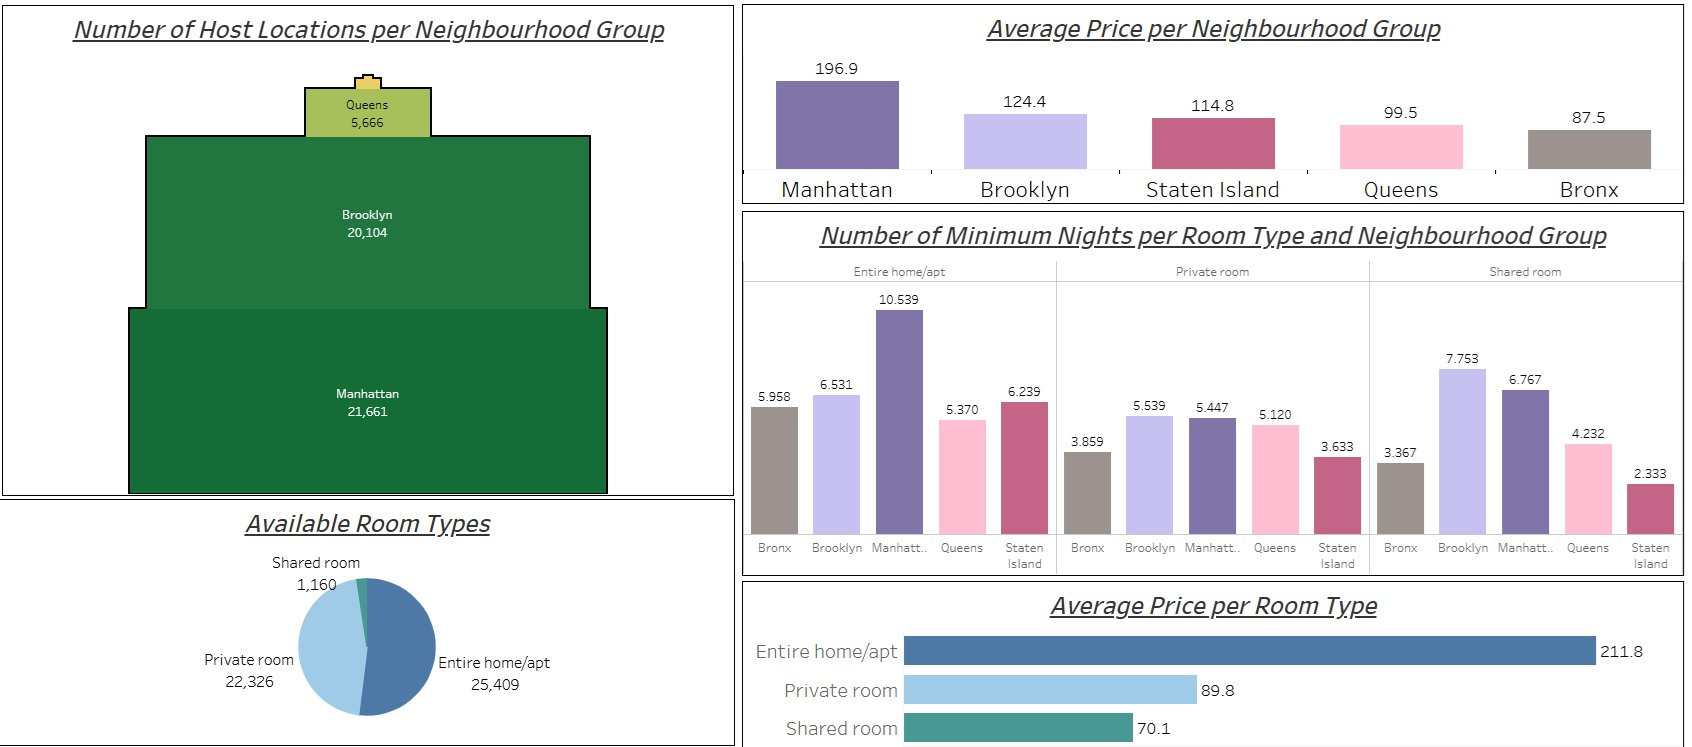

Layout of this report page (visuals, bound fields, positions):
{"tool":"tableau","page":{"name":"Dashboard 1","canvas":[1700,750],"ordinal":0},"visuals":[{"type":"worksheet","title":"Prices per Group","mark":"Bar","rows":["price"],"cols":["neighbourhood_group"],"box":[745,6,942,200]},{"type":"worksheet","title":"Number of Host Locations per Neighbourhood Group","mark":"Automatic","rows":["id"],"box":[5,7,732,491]},{"type":"worksheet","title":"Min Nights per room type & Group","mark":"Bar","rows":["minimum_nights"],"cols":["room_type","neighbourhood_group"],"box":[745,213,942,365]},{"type":"worksheet","title":"Room types","mark":"Pie","box":[2,501,736,247]},{"type":"worksheet","title":"Price per Room Type","mark":"Automatic","rows":["room_type"],"cols":["price"],"box":[745,583,942,167]}]}

Visuals, with their boxes in screenshot pixels (x1, y1, x2, y2), scaled from the page's 1700x750 canvas onto the 1692x747 screenshot:
"Prices per Group" worksheet (Bar marks): rect(741, 6, 1679, 205)
"Number of Host Locations per Neighbourhood Group" worksheet: rect(5, 7, 734, 496)
"Min Nights per room type & Group" worksheet (Bar marks): rect(741, 212, 1679, 576)
"Room types" worksheet (Pie marks): rect(2, 499, 735, 745)
"Price per Room Type" worksheet: rect(741, 581, 1679, 746)
